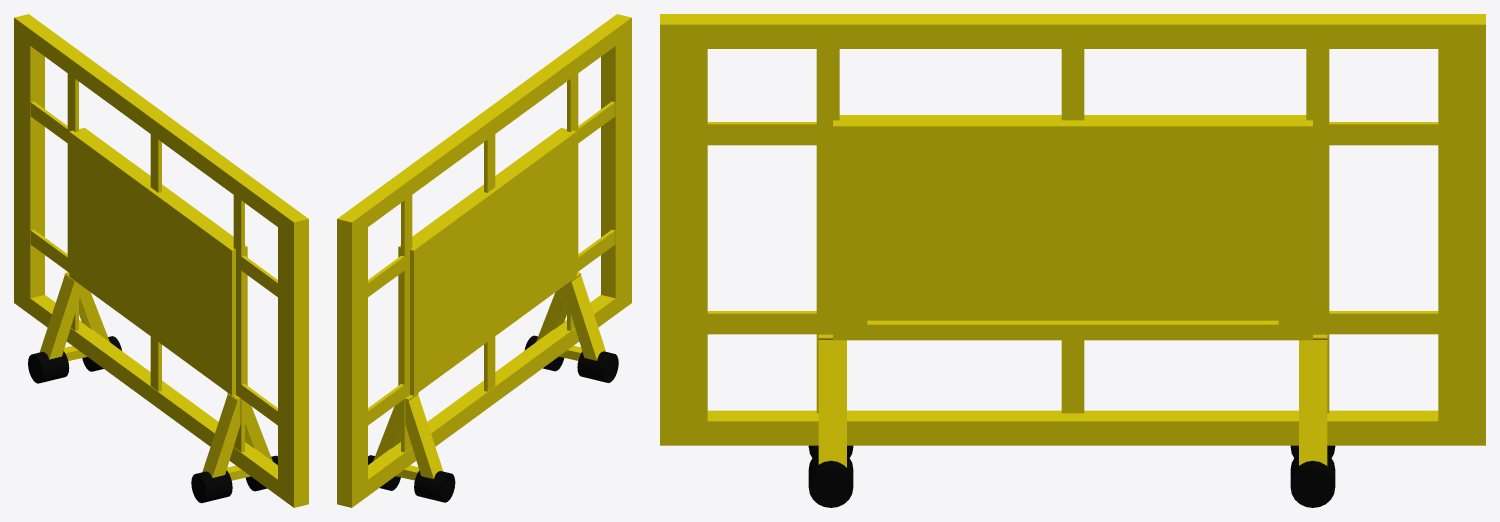
The model's file is baricade.fbx.
The picture shows the model from 3 angles, left to right: view 1: azimuth 30°, elevation 25°; view 2: azimuth 150°, elevation 25°; view 3: azimuth 270°, elevation 25°; orthographic projection. The views are drawn at different scales.
Visible parts, largest first — view 1: pCube1, pCube2, pCube9, pCube4, pCube6, pCube7, pCube3, pCube5, pCylinder2, pCylinder3; view 2: pCube1, pCube2, pCube9, pCube5, pCube6, pCube7, pCube3, pCube4, pCylinder3, pCylinder2; view 3: pCube2, pCube1, pCube9, pCube7, pCube6, pCube4, pCube5, pCube3, pCylinder4, pCylinder1.
Boxes of the visible parts, bbox=[...] form: pCube1: bbox=[14, 14, 308, 507]; pCube2: bbox=[69, 127, 247, 395]; pCube9: bbox=[40, 272, 272, 477]; pCube4: bbox=[233, 195, 244, 452]; pCube6: bbox=[30, 101, 277, 296]; pCube7: bbox=[30, 229, 277, 425]; pCube3: bbox=[150, 134, 161, 391]; pCube5: bbox=[67, 73, 78, 330]; pCylinder2: bbox=[191, 470, 232, 503]; pCylinder3: bbox=[28, 351, 69, 383]; pCube1: bbox=[337, 14, 631, 507]; pCube2: bbox=[398, 127, 576, 395]; pCube9: bbox=[373, 272, 605, 478]; pCube5: bbox=[401, 195, 412, 452]; pCube6: bbox=[368, 101, 615, 296]; pCube7: bbox=[368, 229, 615, 425]; pCube3: bbox=[484, 134, 495, 391]; pCube4: bbox=[567, 73, 578, 330]; pCylinder3: bbox=[414, 470, 455, 502]; pCylinder2: bbox=[577, 351, 618, 382]; pCube2: bbox=[833, 115, 1312, 340]; pCube1: bbox=[660, 14, 1485, 445]; pCube9: bbox=[818, 334, 1327, 467]; pCube7: bbox=[707, 311, 1438, 334]; pCube6: bbox=[707, 122, 1438, 145]; pCube4: bbox=[816, 49, 839, 413]; pCube5: bbox=[1306, 49, 1329, 413]; pCube3: bbox=[1061, 49, 1084, 413]; pCylinder4: bbox=[1290, 454, 1335, 507]; pCylinder1: bbox=[808, 452, 853, 507].
Bounding box in the file's own units: 1.11 × 4.2 × 6.79.
